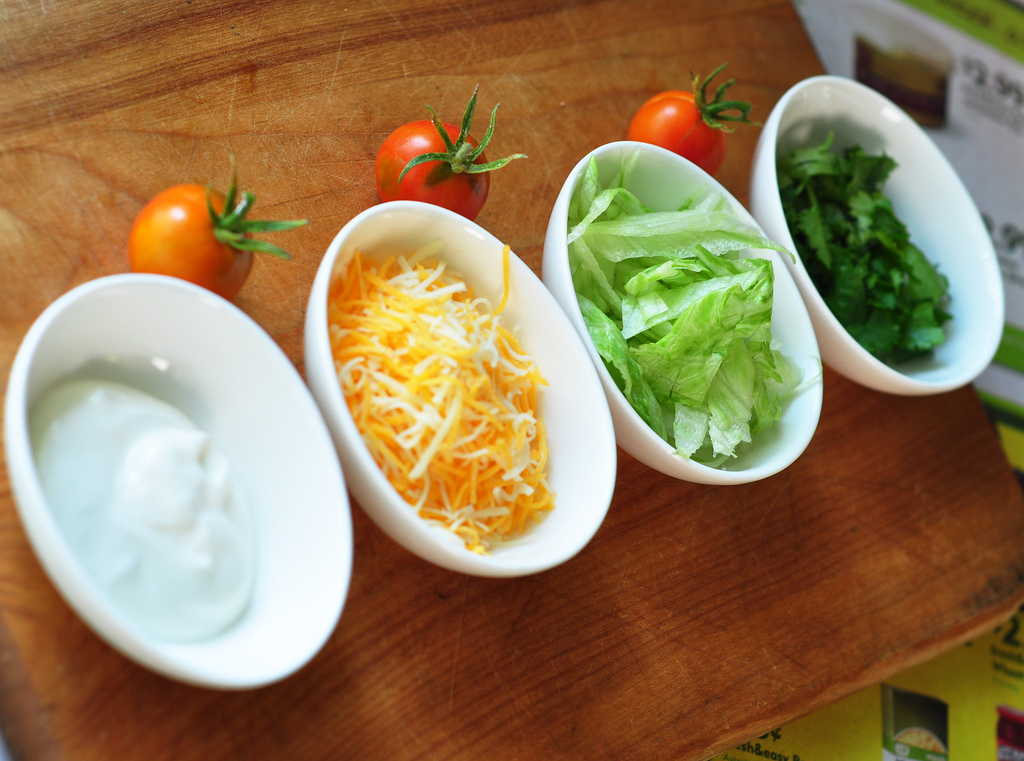chopped lettuce: (569, 157, 819, 461)
